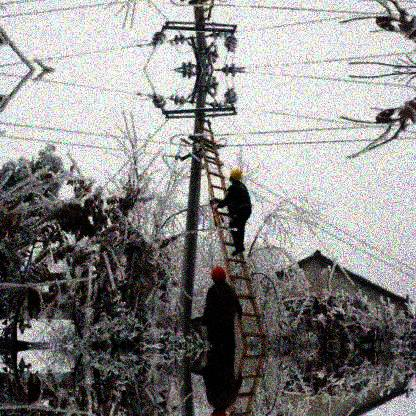helmet: (210, 266, 225, 284), (229, 168, 243, 185), (210, 408, 226, 416)
